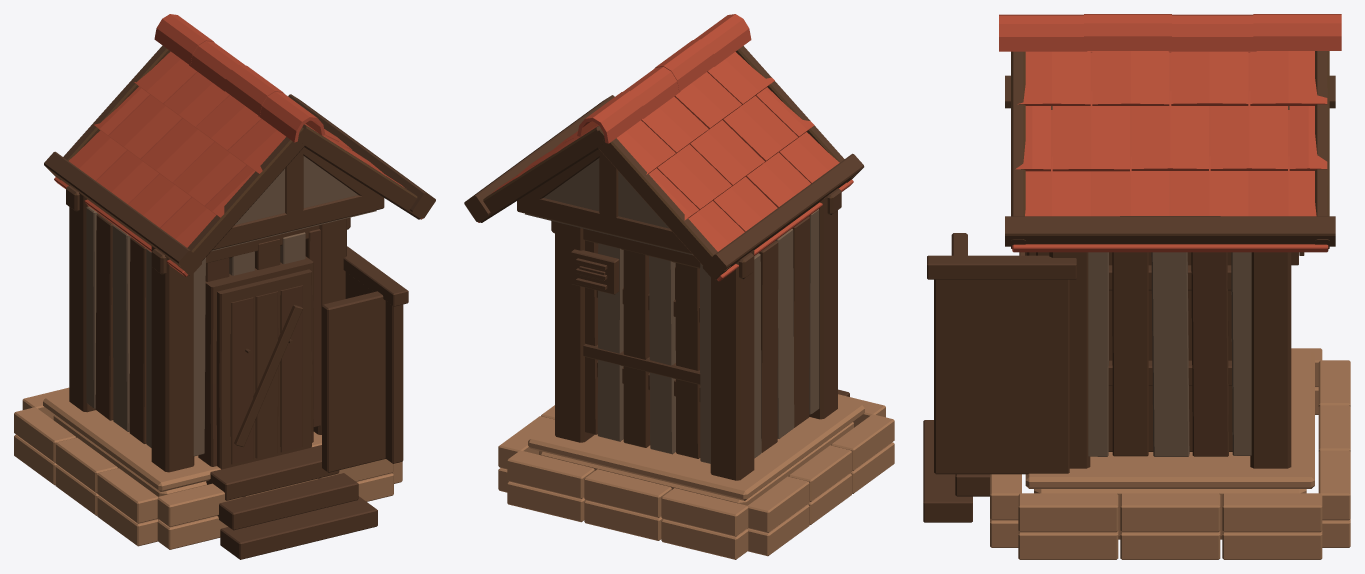
The model's file is building_outhouse_a.glb.
The picture shows the model from 3 angles, left to right: view 1: azimuth 30°, elevation 25°; view 2: azimuth 150°, elevation 25°; view 3: azimuth 270°, elevation 25°; orthographic projection. The views are drawn at different scales.
Visible parts, largest first — view 1: building_outhouse_a_material_01, building_outhouse_a_material_03, building_outhouse_a_material_00, building_outhouse_a_material_02; view 2: building_outhouse_a_material_01, building_outhouse_a_material_00, building_outhouse_a_material_03, building_outhouse_a_material_02; view 3: building_outhouse_a_material_01, building_outhouse_a_material_03, building_outhouse_a_material_00, building_outhouse_a_material_02.
Part boxes in pixels (bbox=[...]): building_outhouse_a_material_01: bbox=[44, 45, 435, 559]; building_outhouse_a_material_03: bbox=[54, 14, 422, 276]; building_outhouse_a_material_00: bbox=[14, 387, 402, 549]; building_outhouse_a_material_02: bbox=[86, 156, 376, 456]; building_outhouse_a_material_01: bbox=[464, 46, 864, 480]; building_outhouse_a_material_00: bbox=[498, 394, 894, 559]; building_outhouse_a_material_03: bbox=[478, 14, 853, 281]; building_outhouse_a_material_02: bbox=[525, 158, 819, 463]; building_outhouse_a_material_01: bbox=[923, 51, 1335, 522]; building_outhouse_a_material_03: bbox=[999, 14, 1341, 252]; building_outhouse_a_material_00: bbox=[990, 348, 1350, 559]; building_outhouse_a_material_02: bbox=[1088, 252, 1251, 456].
Bounding box in the file's own units: 2.83 × 3.67 × 2.92.
